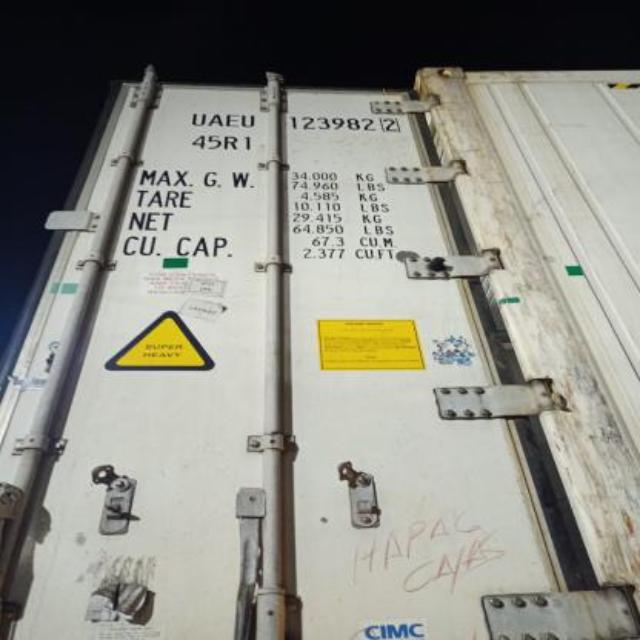1: (286, 111, 298, 132)
2: (379, 110, 399, 134), (300, 110, 316, 132), (359, 110, 375, 132)
3: (314, 110, 330, 134)
8: (346, 111, 360, 132)
9: (333, 109, 345, 133)
A: (208, 104, 222, 128)
E: (224, 110, 240, 132)
U: (241, 108, 259, 136), (190, 104, 206, 128)
